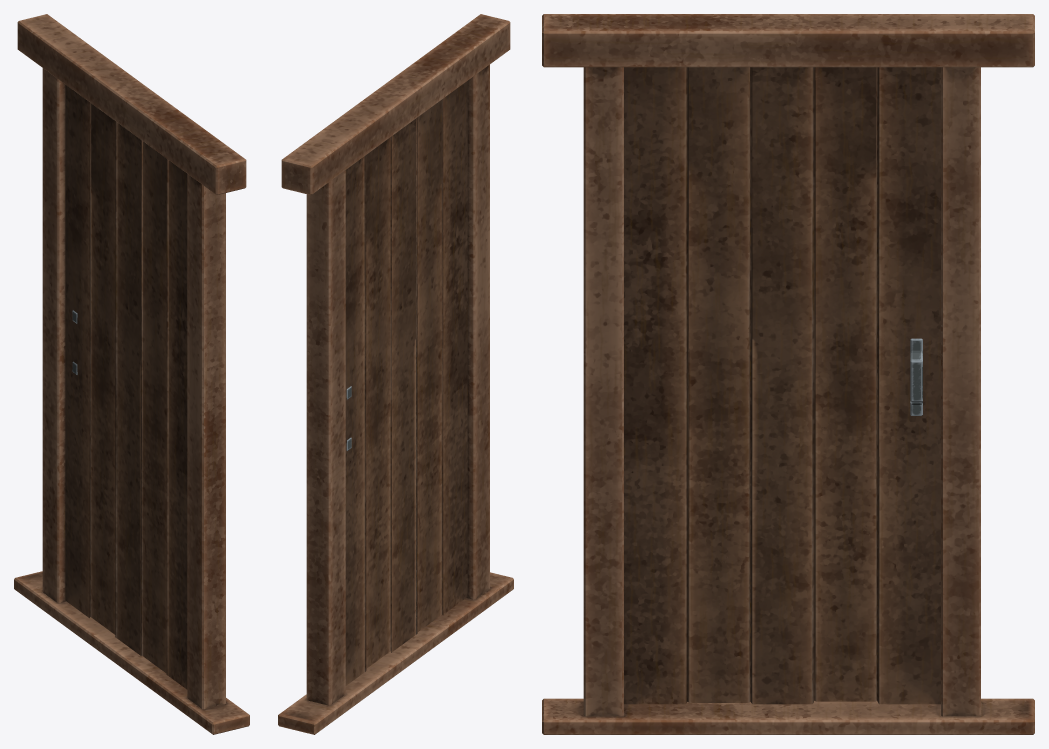
File: door.glb
3 views of the same model, side by side, from view 1: azimuth 30°, elevation 25°; view 2: azimuth 150°, elevation 25°; view 3: azimuth 270°, elevation 25° (orthographic). The views are drawn at different scales.
Visible parts, largest first — view 1: Door; view 2: Door; view 3: Door.
Part boxes in pixels (x1,y1,x2,y2): Door: (14,14,249,734); Door: (278,14,513,734); Door: (542,14,1034,734).
Size of the model in its own units: 0.1476 by 2.11 by 1.35.
1 material, 1 textured.
